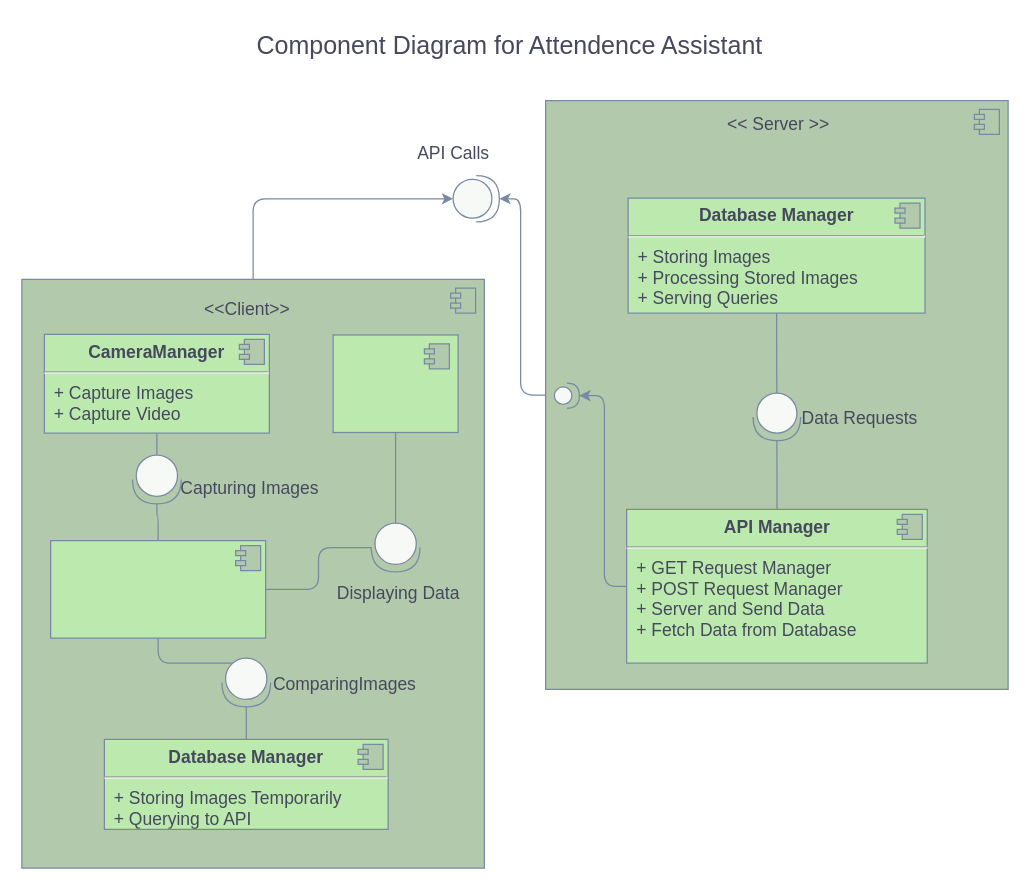
Some shapes in this 1030 by 890 pixel diagram are drawn without their labels. The shapes that lost their labels are listed below. From the top down, each one's box as (x1, y1, x2, y2) in pixels, then its label:
(332, 334, 458, 432): << Display Manager >>
(49, 539, 266, 638): ImageProcessor + Process Images + Identify Faces
